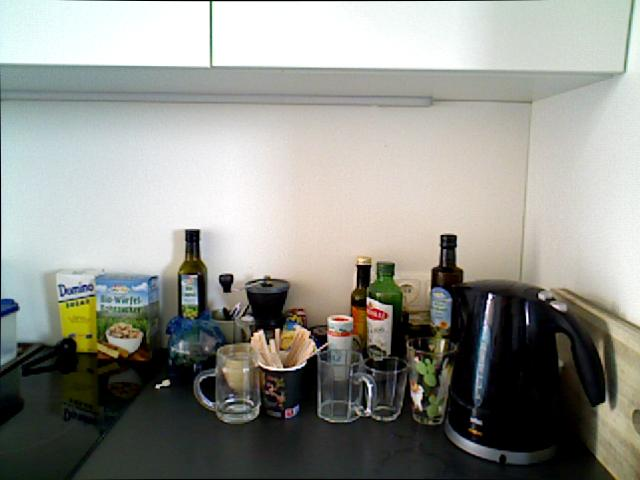bench: (365, 261, 402, 406), (429, 232, 464, 382), (176, 228, 209, 353), (348, 253, 373, 378)
bird: (104, 325, 144, 354)
handbag: (193, 342, 261, 424), (405, 336, 457, 425), (315, 349, 374, 423), (360, 355, 408, 422), (258, 352, 306, 419)
